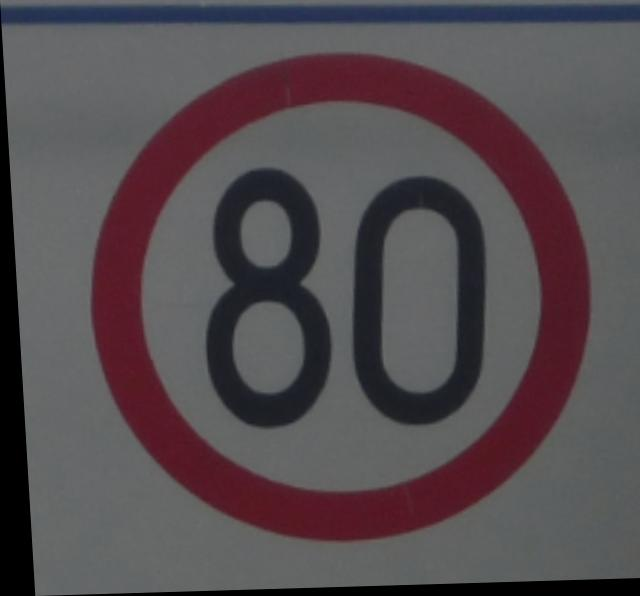limit80: (62, 35, 610, 556)
